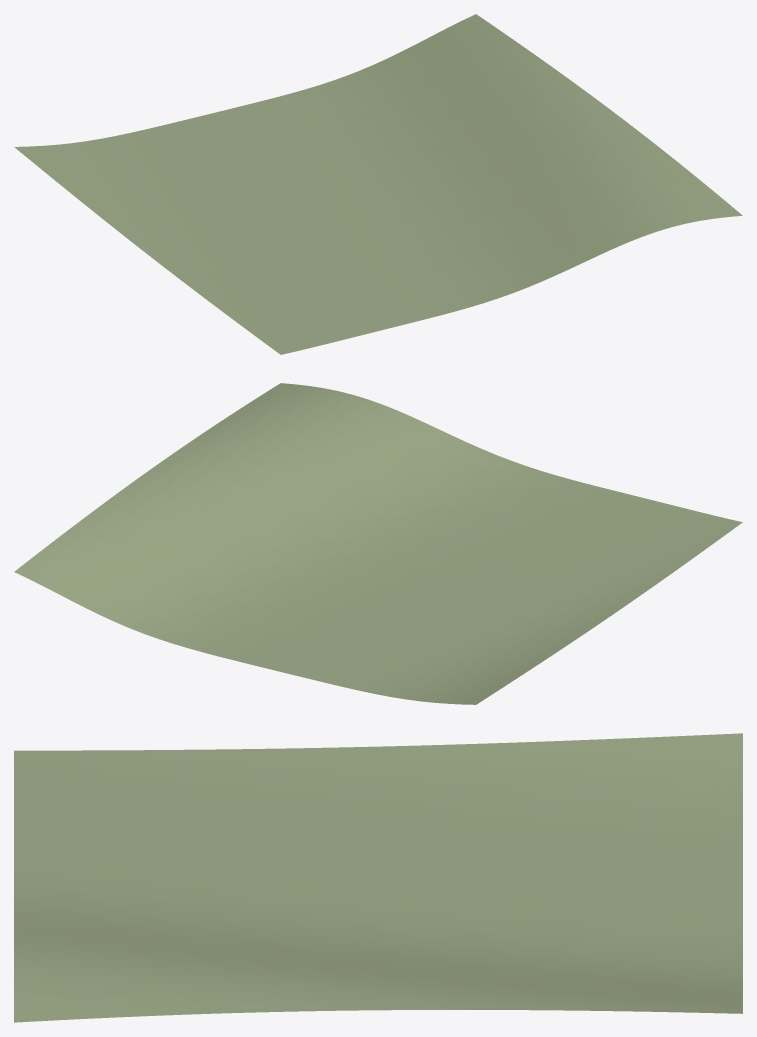
File: desert-4-5.glb
3 views of the same model, one above another, from view 1: azimuth 30°, elevation 25°; view 2: azimuth 150°, elevation 25°; view 3: azimuth 270°, elevation 25° (orthographic). The views are drawn at different scales.
Parts seen in each view (by area): view 1: desert-4-5; view 2: desert-4-5; view 3: desert-4-5.
Boxes of the visible parts, box(x1,y1,x2,y2) form: desert-4-5: box(14, 14, 742, 354); desert-4-5: box(14, 383, 742, 704); desert-4-5: box(14, 733, 742, 1022).
Bounding box in the file's own units: 512 × 40.07 × 512.
